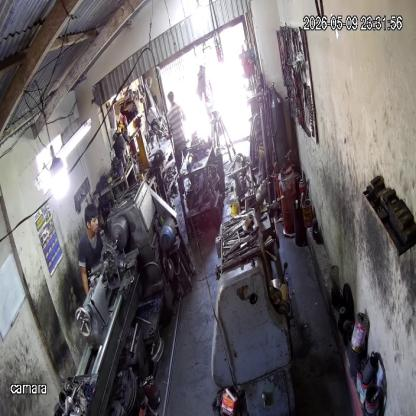sin_lentes: (90, 215, 100, 226)
